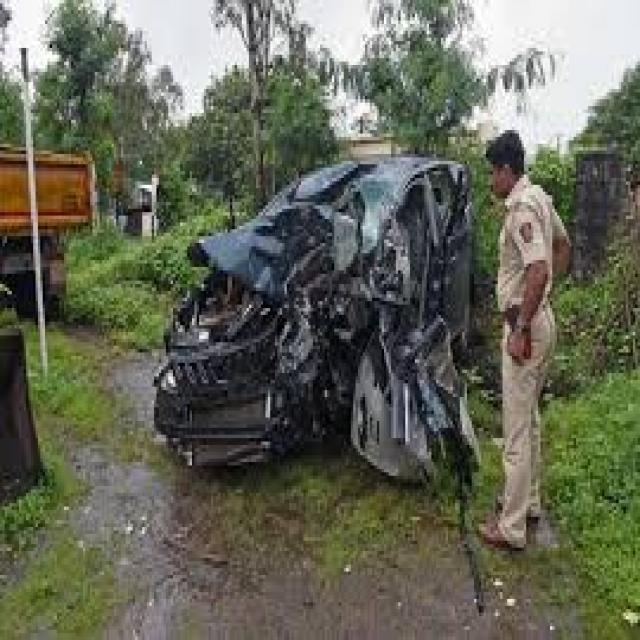accident: (144, 121, 473, 513)
